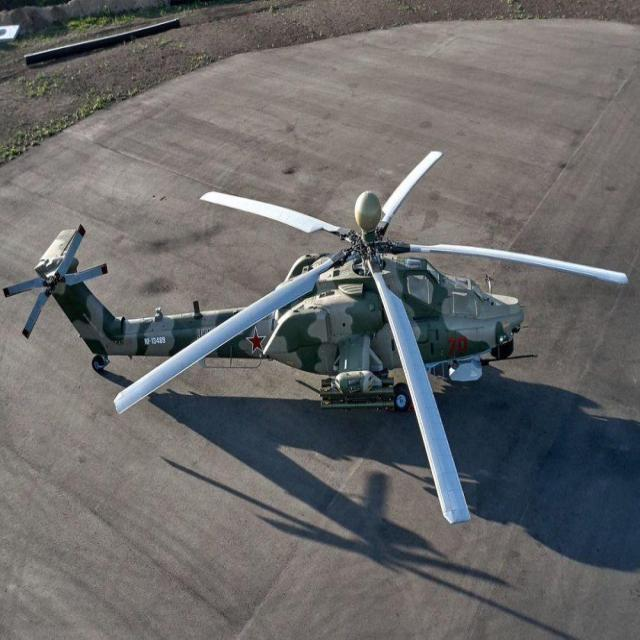MIL_HELO: (7, 131, 640, 552)
